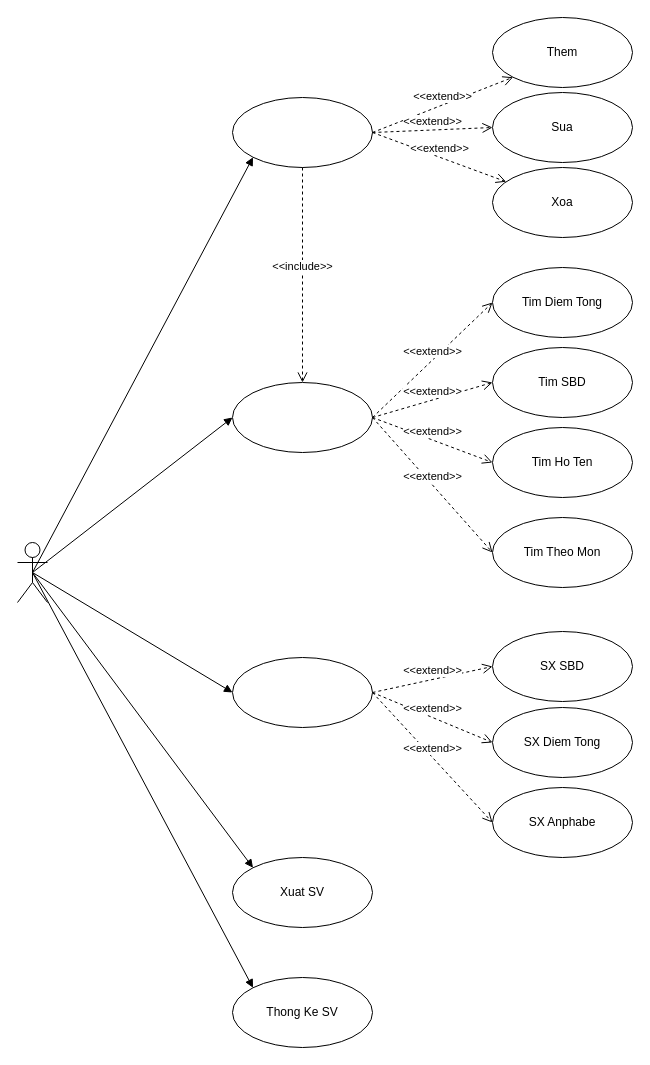
Image size: 650x1065. Some labels were removed from this diagram. The centre of each missing label's shape, as x and y in pixels:
"Cap Nhat SV" goes at point (302, 132).
"Sap Xep" goes at point (302, 692).
"Tim Kiem SV" goes at point (302, 417).
"User" goes at point (32, 572).
